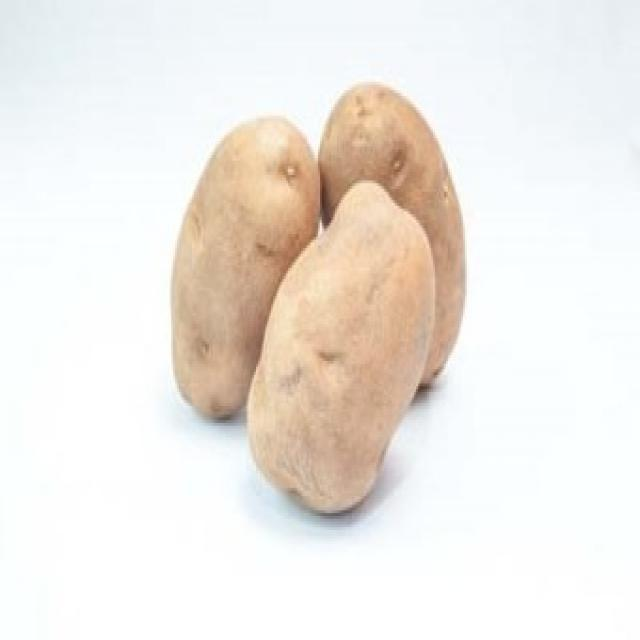potato: (246, 173, 430, 518), (315, 84, 469, 396), (170, 109, 322, 424)
